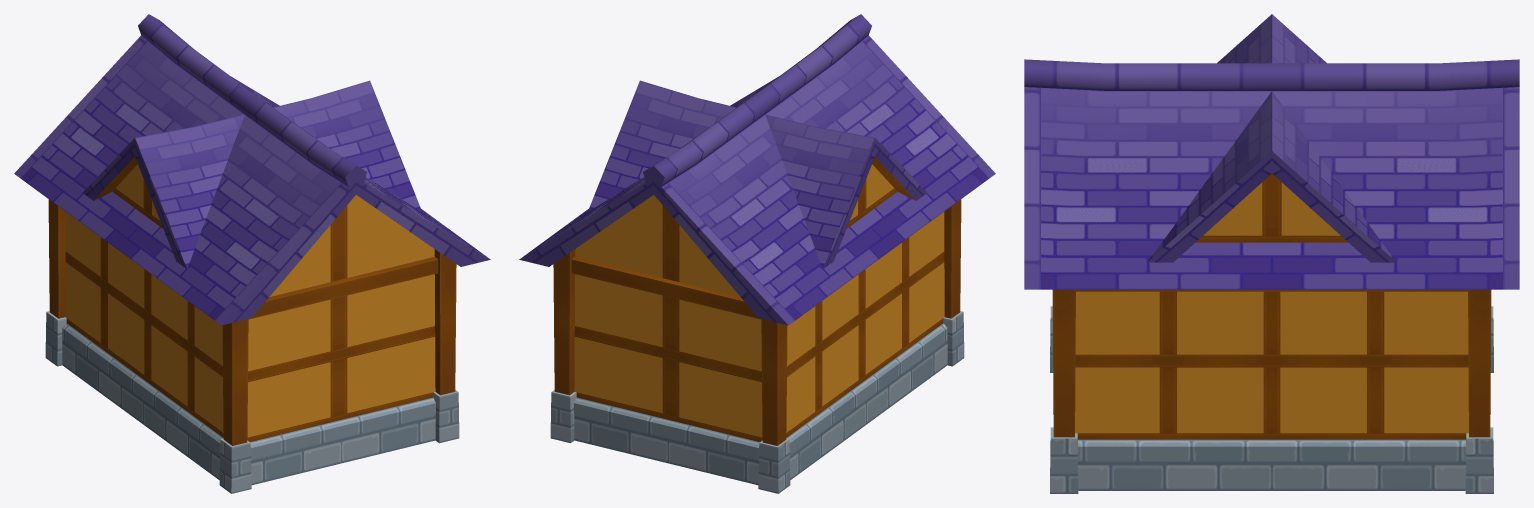
The model's file is BLD0310025.fbx.
3 renders of one model, left to right at view 1: azimuth 30°, elevation 25°; view 2: azimuth 150°, elevation 25°; view 3: azimuth 270°, elevation 25°, orthographic. The views are drawn at different scales.
Parts seen in each view (by area): view 1: smBLD0310025; view 2: smBLD0310025; view 3: smBLD0310025.
Boxes of the visible parts, x1=… form: smBLD0310025: x1=14, y1=14, x2=490, y2=493; smBLD0310025: x1=519, y1=14, x2=995, y2=493; smBLD0310025: x1=1024, y1=14, x2=1519, y2=493.
Bounding box in the file's own units: 129 × 141 × 172.
1 material, 1 textured.
